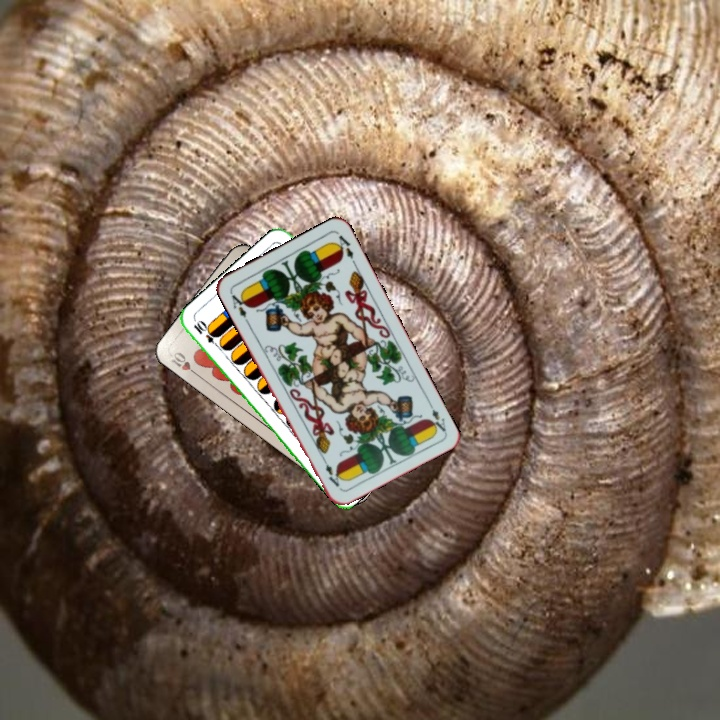E10: (189, 317, 223, 351)
EA: (226, 288, 251, 326), (425, 405, 449, 435)
H10: (166, 348, 202, 379)
